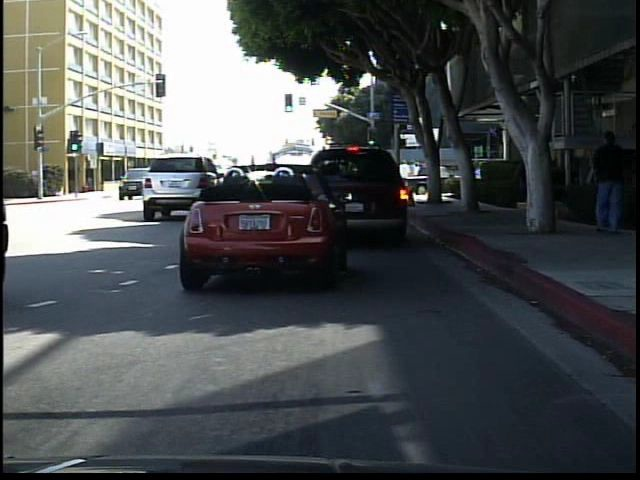person: (586, 132, 631, 239), (514, 145, 543, 226)
